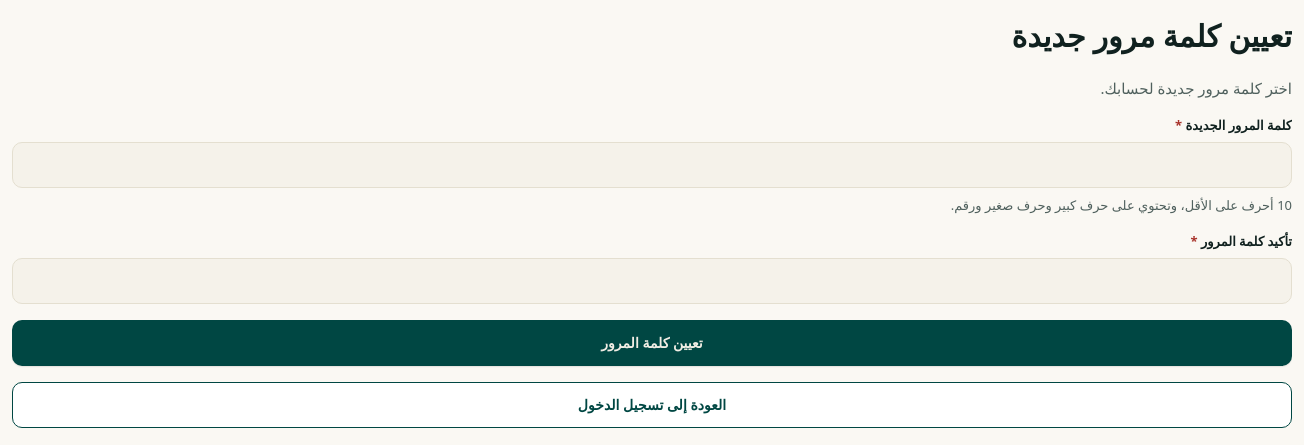
Scenario: ResetPasswordForm › sends userId, token and newPassword only, then shows success with a login link
Check: the heading "تعيين كلمة مرور جديدة" is shown, box [1012, 15, 1292, 56]
Step 1. Type "Abcdefgh1x" into the password field labelled "كلمة المرور الجديدة *" → [652, 165], box [12, 142, 1292, 188]
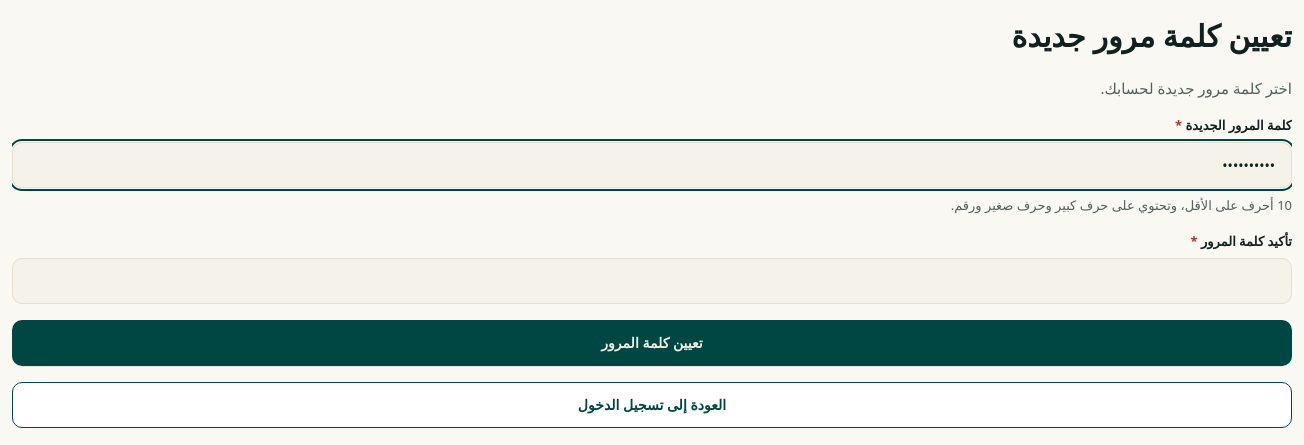
Step 2. Type "Abcdefgh1x" into the password field labelled "تأكيد كلمة المرور *" → [652, 281], box [12, 258, 1292, 304]
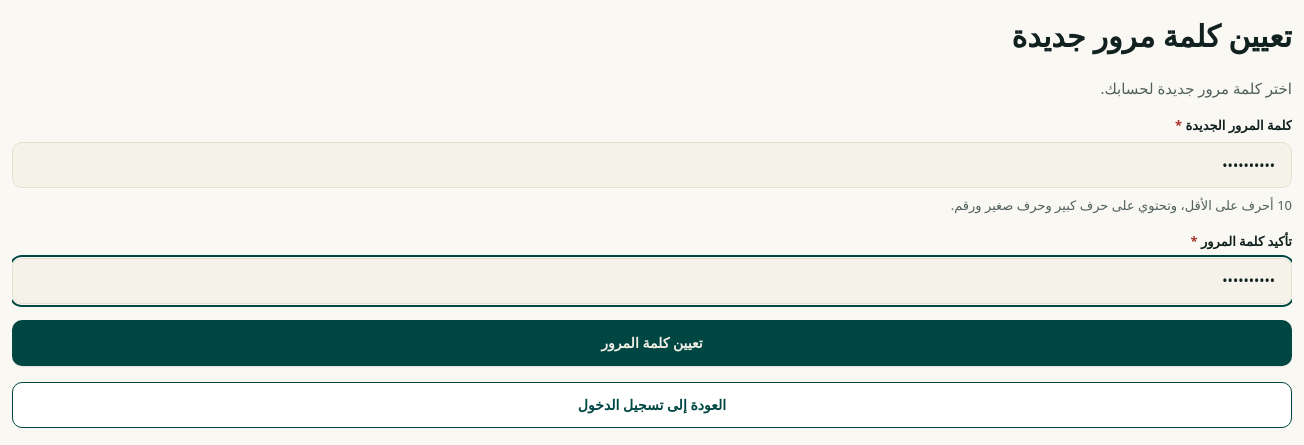
Step 3. Click the button "تعيين كلمة المرور" → [652, 343], box [12, 320, 1292, 366]
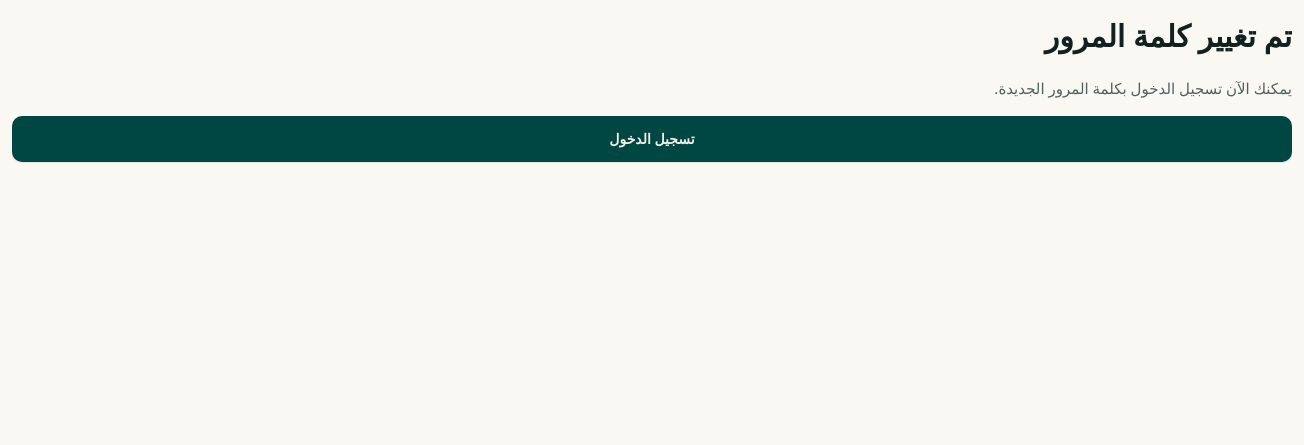
Check: the heading "تم تغيير كلمة المرور" is shown, box [1045, 15, 1292, 56]
